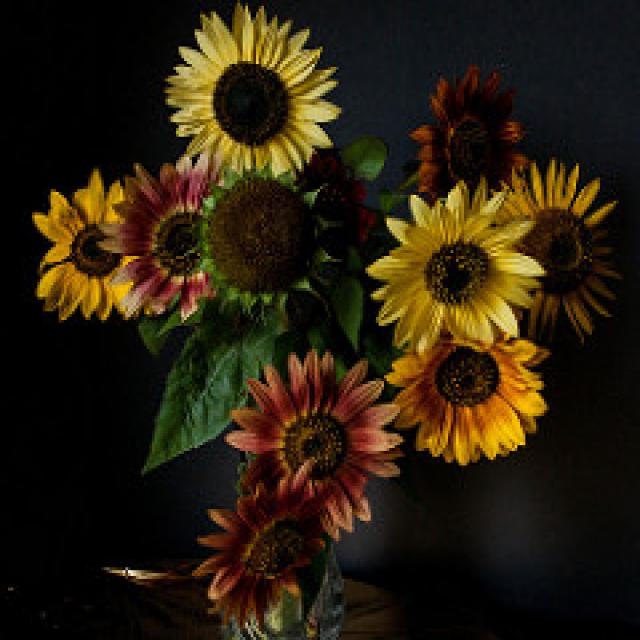sunflower: (224, 342, 405, 545), (361, 163, 548, 355), (166, 4, 350, 188), (474, 153, 626, 356), (378, 327, 554, 470), (207, 162, 351, 318), (32, 167, 160, 333), (402, 56, 530, 210)
